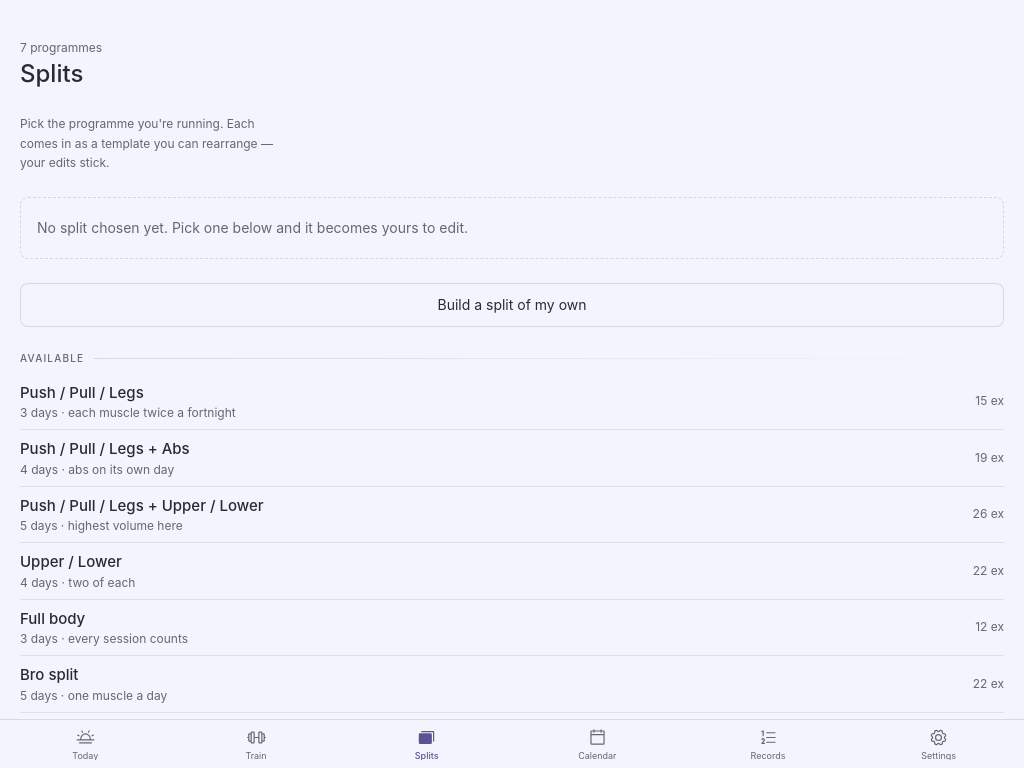
the Splits screen › takes a copy of a template and opens its editor
The image size is (1024, 768).
Click the button with aria-label "Use Full body".
click(53, 618)  # box 20,600 -> 1004,655
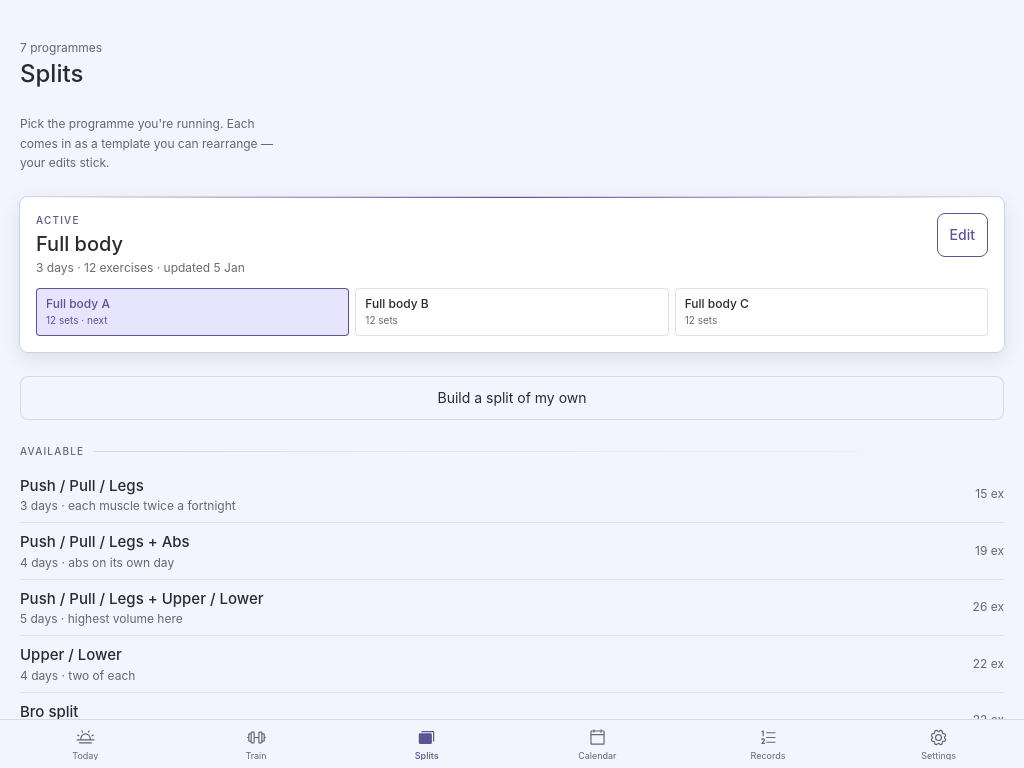
Click the link "Edit".
click(962, 234)  # box 937,212 -> 988,256
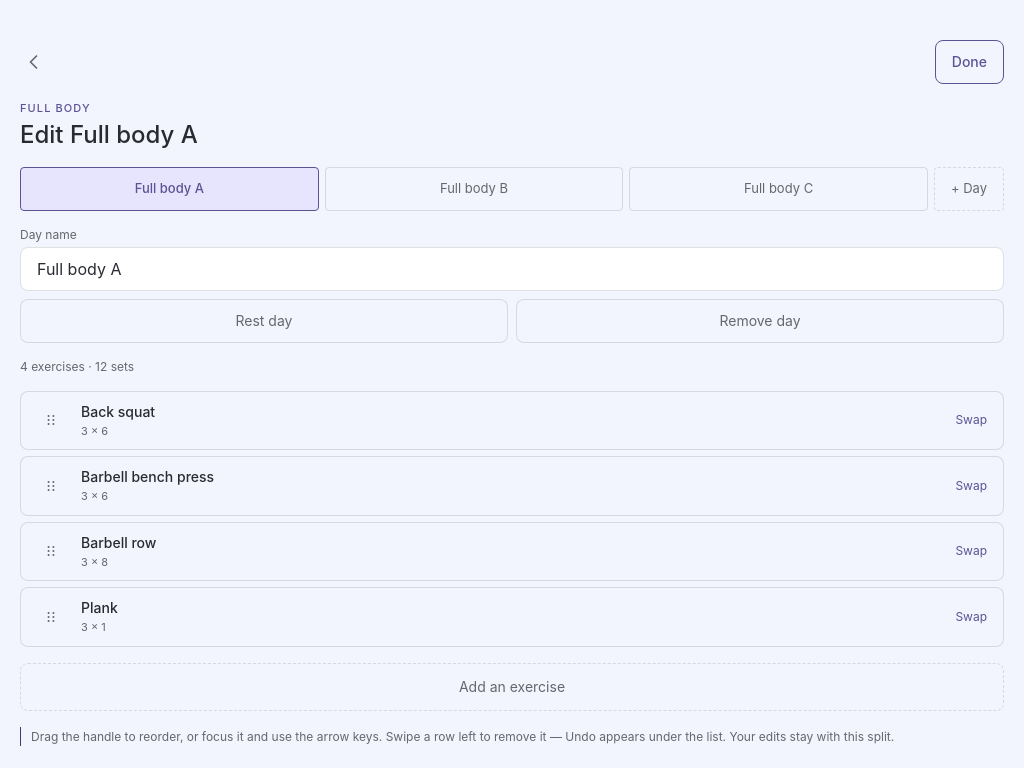
Expected: the heading "Edit Full body A" is shown, 20,120 -> 198,148
